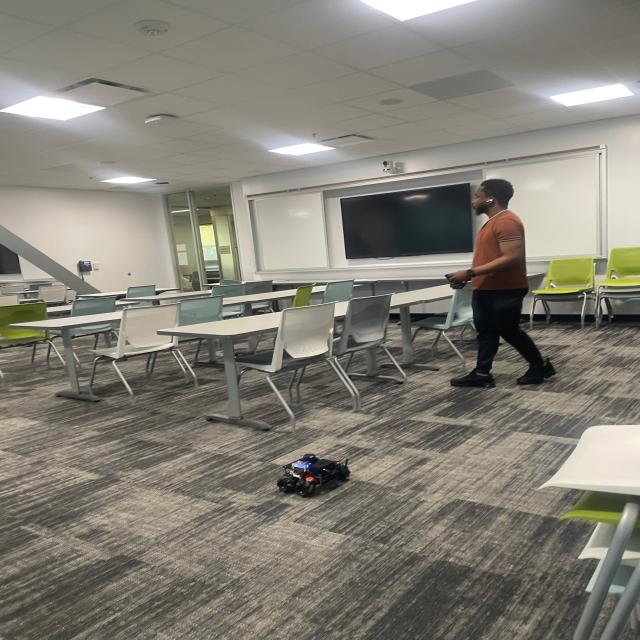ArduinoCar: (273, 451, 357, 492)
